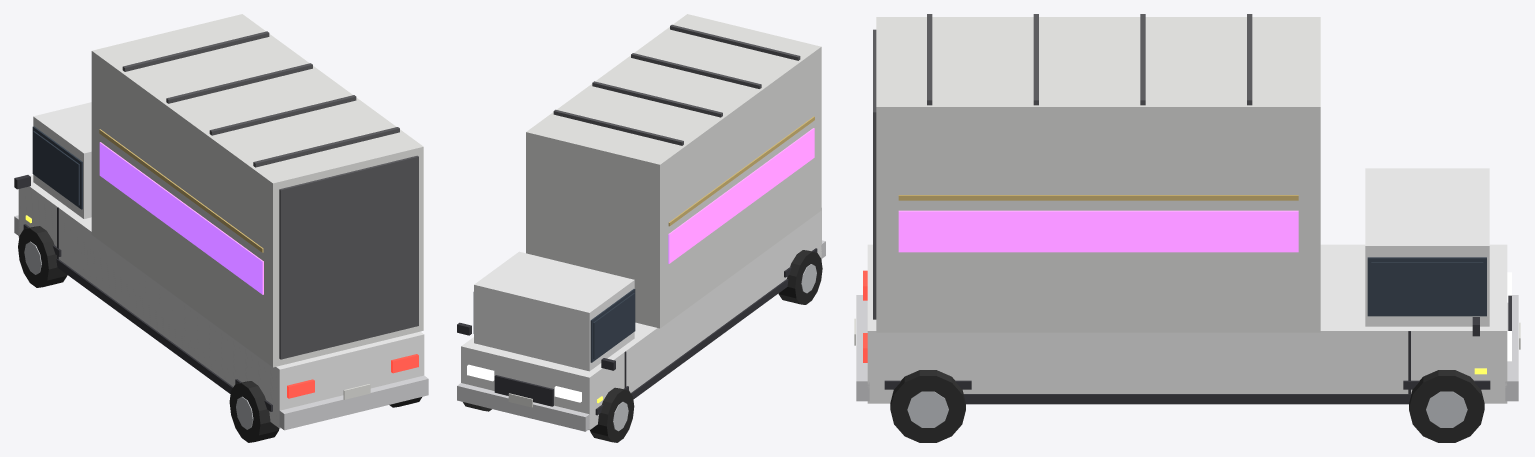
Rendered from car_boxtruck.glb.
3 views of the same model, side by side, from view 1: azimuth 30°, elevation 25°; view 2: azimuth 150°, elevation 25°; view 3: azimuth 270°, elevation 25° (orthographic). The views are drawn at different scales.
Parts seen in each view (by area): view 1: BoxTruck_box, BoxTruck_door, BoxTruck_body, BoxTruck_stripe-1, BoxTruck_cab, BoxTruck_bumperR, BoxTruck_sideglass-1, BoxTruck_sill-1, BoxTruck_tire-1-3, BoxTruck_tire-13, BoxTruck_rib1, BoxTruck_rib3 (+6 smaller); view 2: BoxTruck_box, BoxTruck_body, BoxTruck_cab, BoxTruck_stripe-1, BoxTruck_bumperF, BoxTruck_sideglass-1, BoxTruck_sill-1, BoxTruck_tire-13, BoxTruck_tire-1-3, BoxTruck_grille, BoxTruck_rib0, BoxTruck_rib2 (+4 smaller); view 3: BoxTruck_box, BoxTruck_body, BoxTruck_stripe1, BoxTruck_cab, BoxTruck_sideglass1, BoxTruck_sill1, BoxTruck_tire1-3, BoxTruck_tire13, BoxTruck_pin1, BoxTruck_glass, BoxTruck_rim1-3, BoxTruck_rim13 (+3 smaller).
Boxes of the visible parts, left/top/right/bottom form: BoxTruck_box: left=91, top=14, right=423, bottom=367; BoxTruck_door: left=279, top=155, right=418, bottom=359; BoxTruck_body: left=18, top=175, right=424, bottom=428; BoxTruck_stripe-1: left=99, top=142, right=263, bottom=294; BoxTruck_cab: left=33, top=102, right=91, bottom=218; BoxTruck_bumperR: left=279, top=375, right=428, bottom=430; BoxTruck_sideglass-1: left=33, top=131, right=79, bottom=205; BoxTruck_sill-1: left=56, top=259, right=233, bottom=393; BoxTruck_tire-1-3: left=229, top=381, right=279, bottom=442; BoxTruck_tire-13: left=18, top=226, right=67, bottom=287; BoxTruck_rib1: left=209, top=95, right=356, bottom=135; BoxTruck_rib3: left=122, top=31, right=269, bottom=71; BoxTruck_box: left=526, top=14, right=821, bottom=328; BoxTruck_body: left=461, top=208, right=821, bottom=430; BoxTruck_cab: left=474, top=251, right=634, bottom=371; BoxTruck_stripe-1: left=668, top=128, right=814, bottom=263; BoxTruck_bumperF: left=457, top=383, right=589, bottom=431; BoxTruck_sideglass-1: left=593, top=293, right=634, bottom=358; BoxTruck_sill-1: left=631, top=279, right=788, bottom=399; BoxTruck_tire-13: left=590, top=387, right=634, bottom=442; BoxTruck_tire-1-3: left=778, top=250, right=822, bottom=304; BoxTruck_grille: left=494, top=375, right=553, bottom=406; BoxTruck_rib0: left=670, top=24, right=800, bottom=60; BoxTruck_rib2: left=592, top=81, right=722, bottom=117; BoxTruck_box: left=876, top=17, right=1320, bottom=332; BoxTruck_body: left=867, top=244, right=1507, bottom=403; BoxTruck_stripe1: left=898, top=210, right=1298, bottom=252; BoxTruck_cab: left=1365, top=168, right=1489, bottom=326; BoxTruck_sideglass1: left=1371, top=262, right=1483, bottom=312; BoxTruck_sill1: left=963, top=394, right=1411, bottom=404; BoxTruck_tire1-3: left=890, top=370, right=965, bottom=442; BoxTruck_tire13: left=1409, top=370, right=1484, bottom=442; BoxTruck_pin1: left=898, top=195, right=1298, bottom=200; BoxTruck_glass: left=1367, top=257, right=1486, bottom=316; BoxTruck_rim1-3: left=907, top=391, right=948, bottom=427; BoxTruck_rim13: left=1426, top=391, right=1467, bottom=427.
Bounding box in the file's own units: 2.8 × 4.18 × 7.5.
